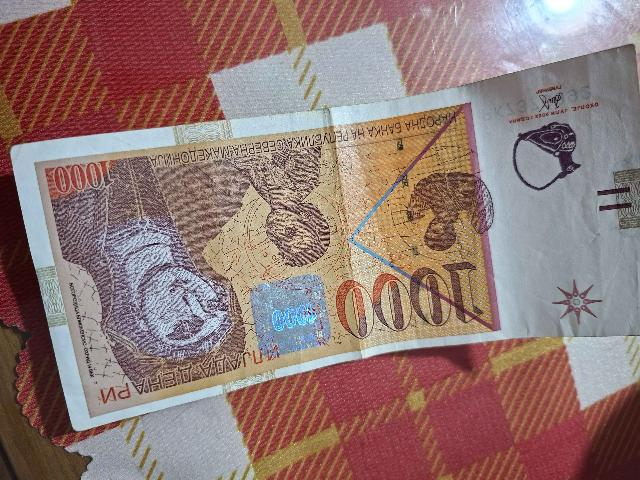note: (3, 42, 639, 420)
